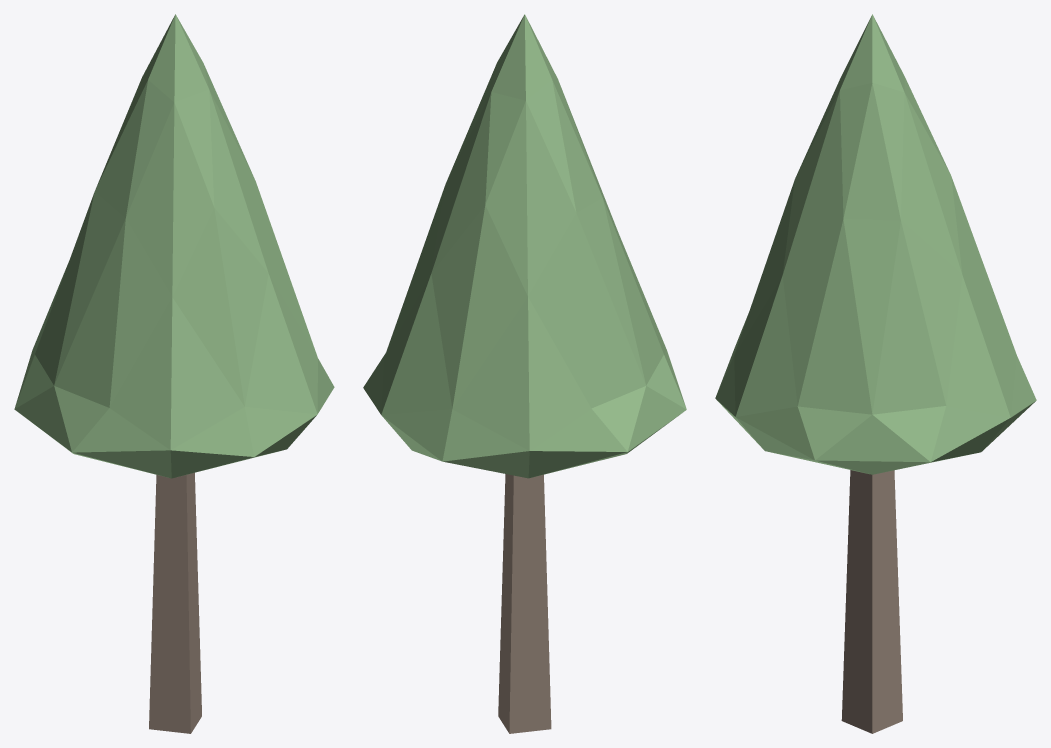
Rendered from tree-conifer-e-far.glb.
3 views of the same model, side by side, from view 1: azimuth 30°, elevation 25°; view 2: azimuth 150°, elevation 25°; view 3: azimuth 270°, elevation 25° (orthographic).
Parts seen in each view (by area): view 1: tree-conifer-e-far; view 2: tree-conifer-e-far; view 3: tree-conifer-e-far.
Part boxes in pixels (x1,y1,x2,y2): tree-conifer-e-far: [14, 14, 334, 733]; tree-conifer-e-far: [363, 14, 686, 733]; tree-conifer-e-far: [715, 14, 1036, 733].
Size of the model in its own units: 0.3743 by 0.9557 by 0.3939.
